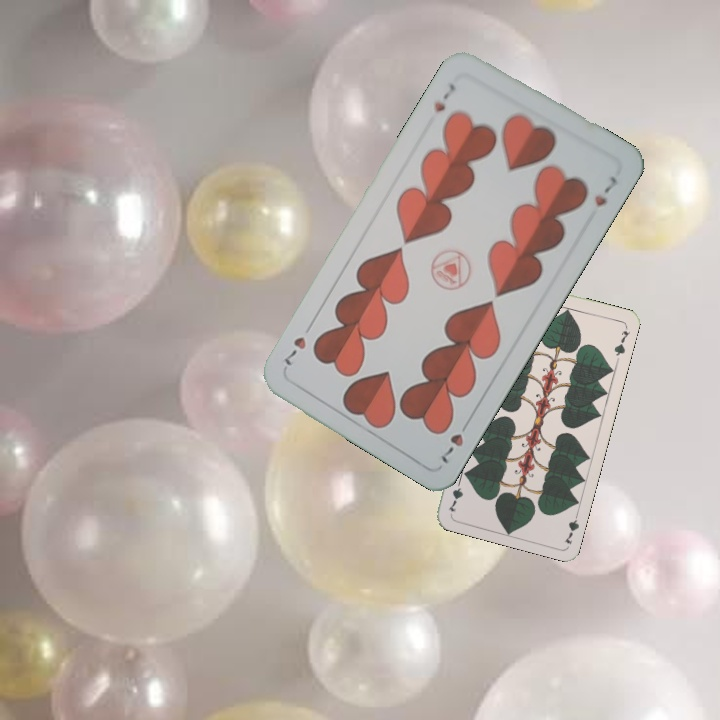G7: (560, 506, 582, 546)
H7: (437, 414, 474, 466), (430, 79, 460, 115)
